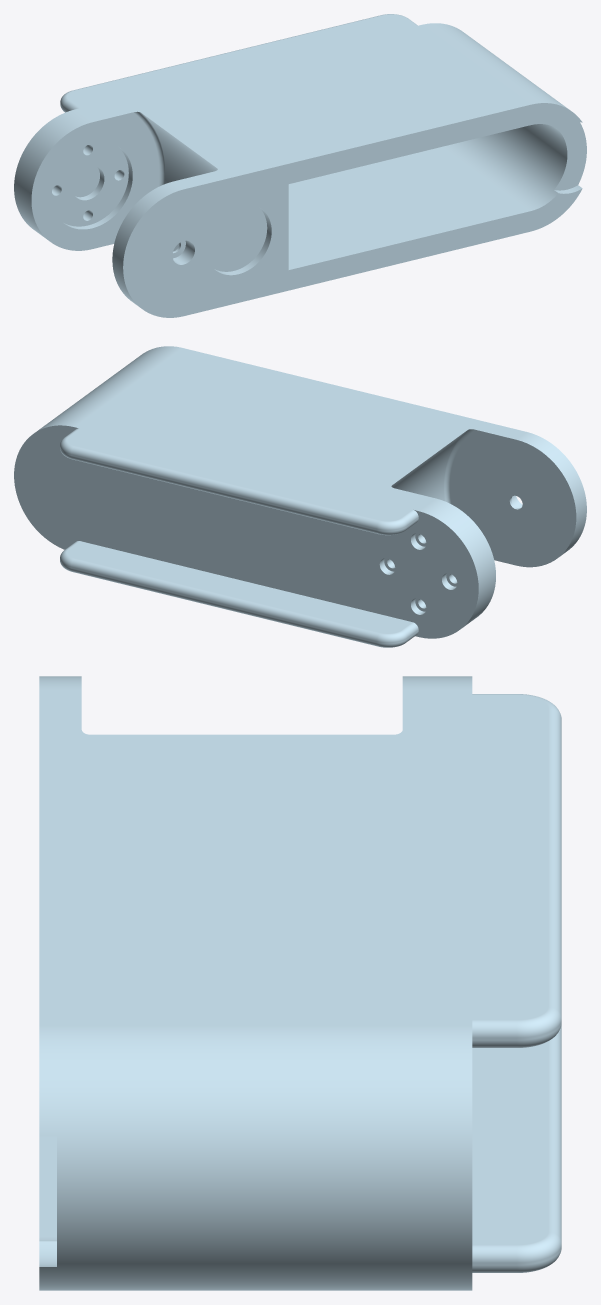
The picture shows the model from 3 angles, top to bottom: view 1: azimuth 30°, elevation 25°; view 2: azimuth 150°, elevation 25°; view 3: azimuth 270°, elevation 25°; orthographic projection. The views are drawn at different scales.
Visible parts, largest first — view 1: SnakeFront; view 2: SnakeFront; view 3: SnakeFront.
Part boxes in pixels (x1=…): SnakeFront: x1=14, y1=14, x2=586, y2=317; SnakeFront: x1=14, y1=346, x2=586, y2=647; SnakeFront: x1=39, y1=676, x2=561, y2=1290.
Size of the model in its own units: 0.1198 by 0.031 by 0.0583.
